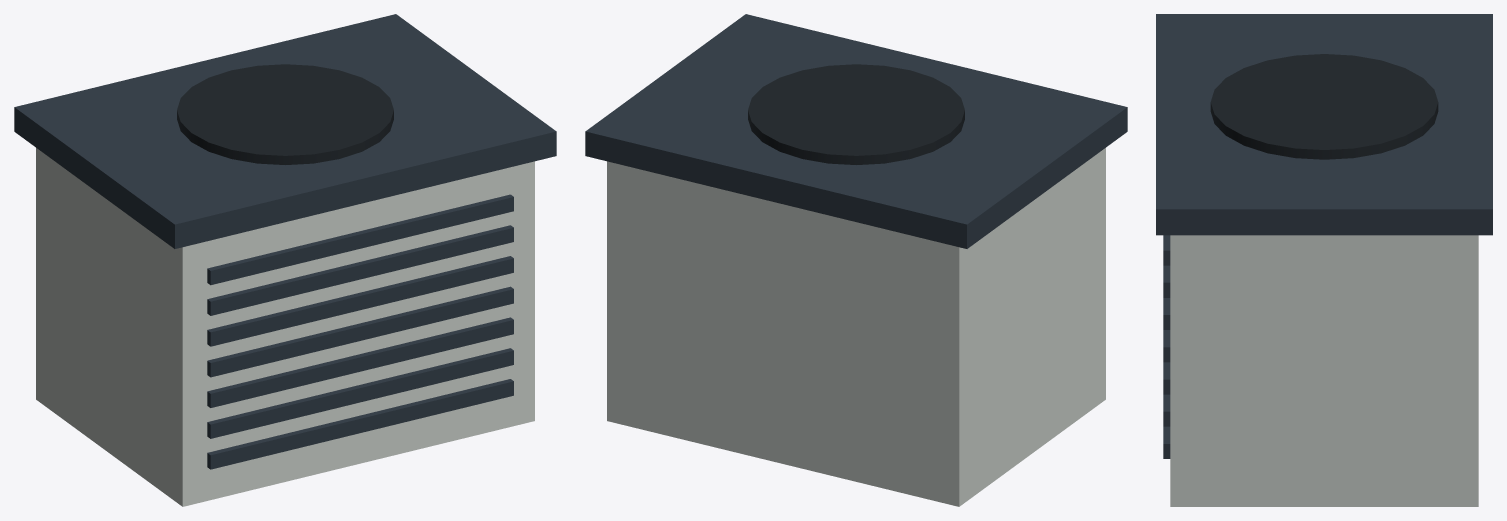
The model's file is rooftop-hvac.glb.
3 views of the same model, side by side, from view 1: azimuth 30°, elevation 25°; view 2: azimuth 150°, elevation 25°; view 3: azimuth 270°, elevation 25° (orthographic). The views are drawn at different scales.
Visible parts, largest first — view 1: rooftop-hvac; view 2: rooftop-hvac; view 3: rooftop-hvac.
Part boxes in pixels (x1,y1,x2,y2): rooftop-hvac: [14, 14, 556, 506]; rooftop-hvac: [585, 14, 1127, 506]; rooftop-hvac: [1156, 14, 1492, 506].
Bounding box in the file's own units: 1.95 × 1.47 × 1.42.
